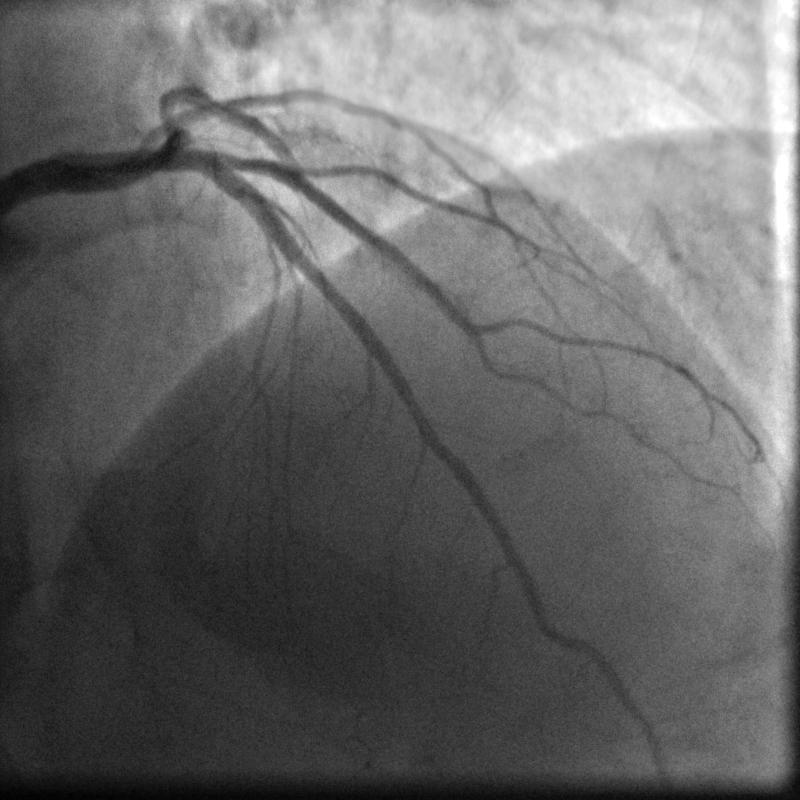Stenosis: (419, 395, 445, 477)
